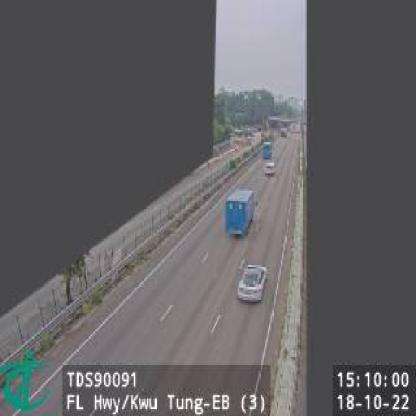Bus: (263, 141, 273, 161)
Car: (236, 263, 268, 302), (264, 160, 276, 176)
Truck: (226, 188, 258, 237)
